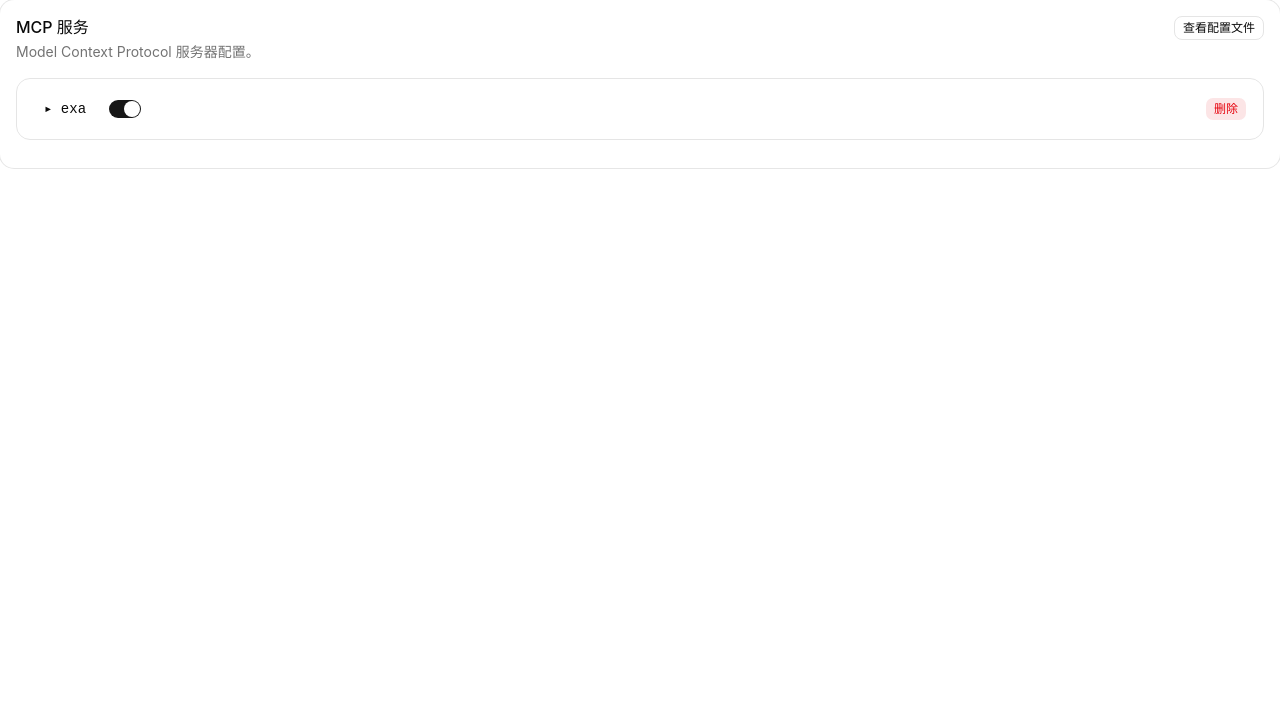
Test: McpPage › keeps an oauth object untouched and hides the switch
Click the button with aria-label "展开 exa" at (65, 109), box x1=33 y1=95 x2=97 y2=123
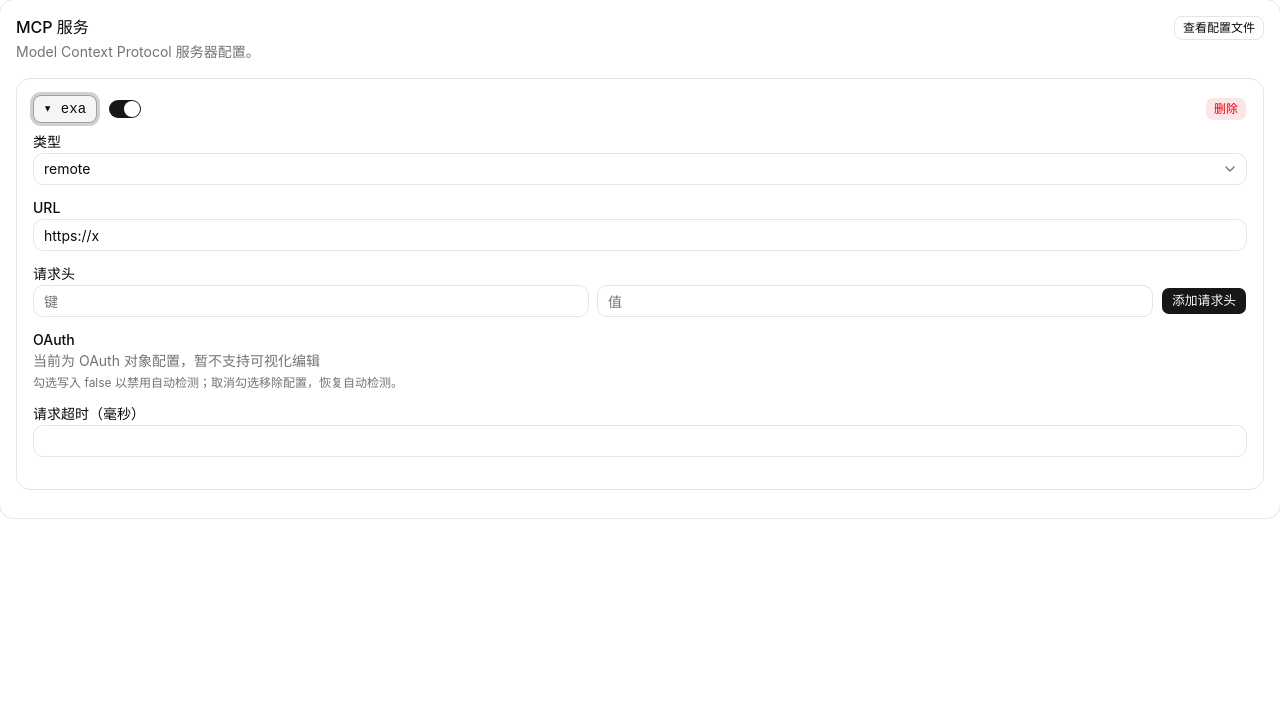
Expected: the text "当前为 OAuth 对象配置，暂不支持可视化编辑" is shown, x1=33 y1=352 x2=320 y2=369
